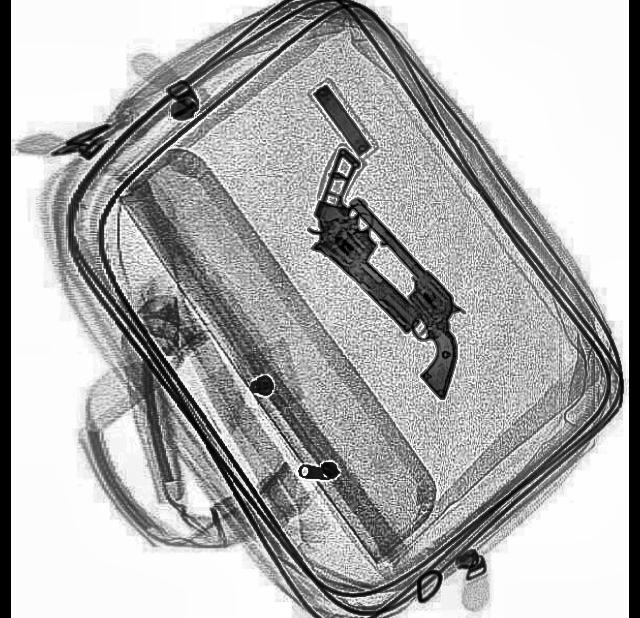Gun: (304, 191, 493, 399), (284, 144, 462, 336)
